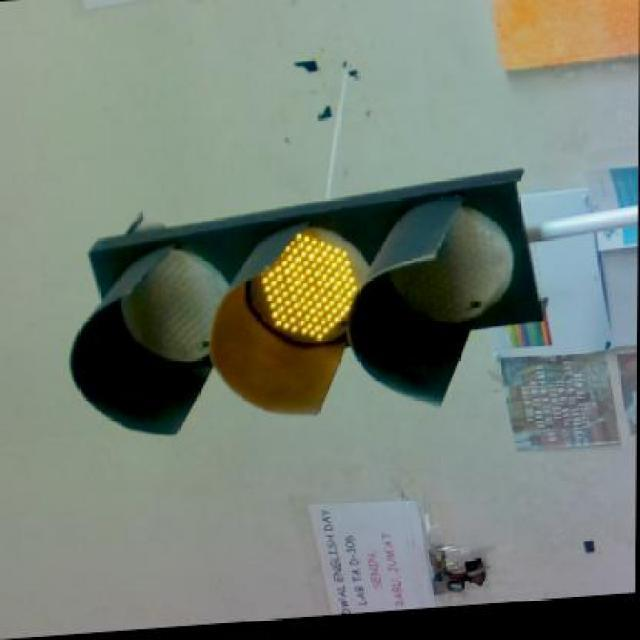yellow_light: (70, 170, 568, 434)
